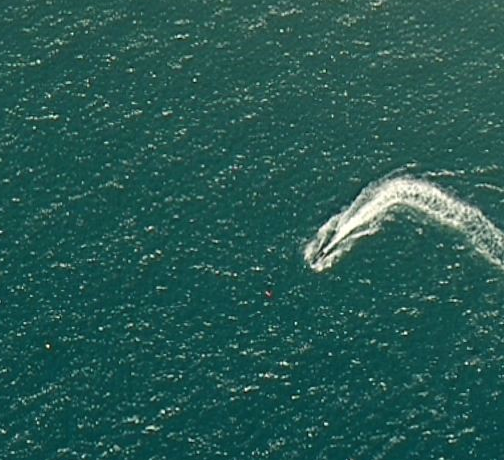ship: (305, 249, 330, 274)
